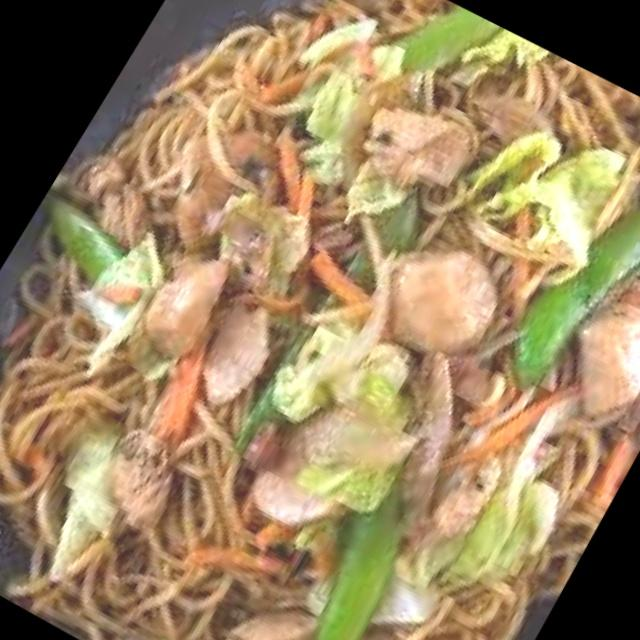pancit bihon: (0, 0, 639, 639)
